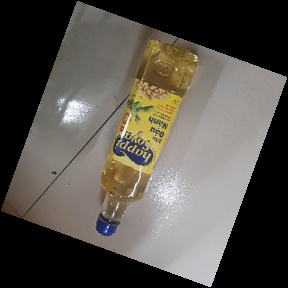Happy Soya: (94, 38, 198, 237)
